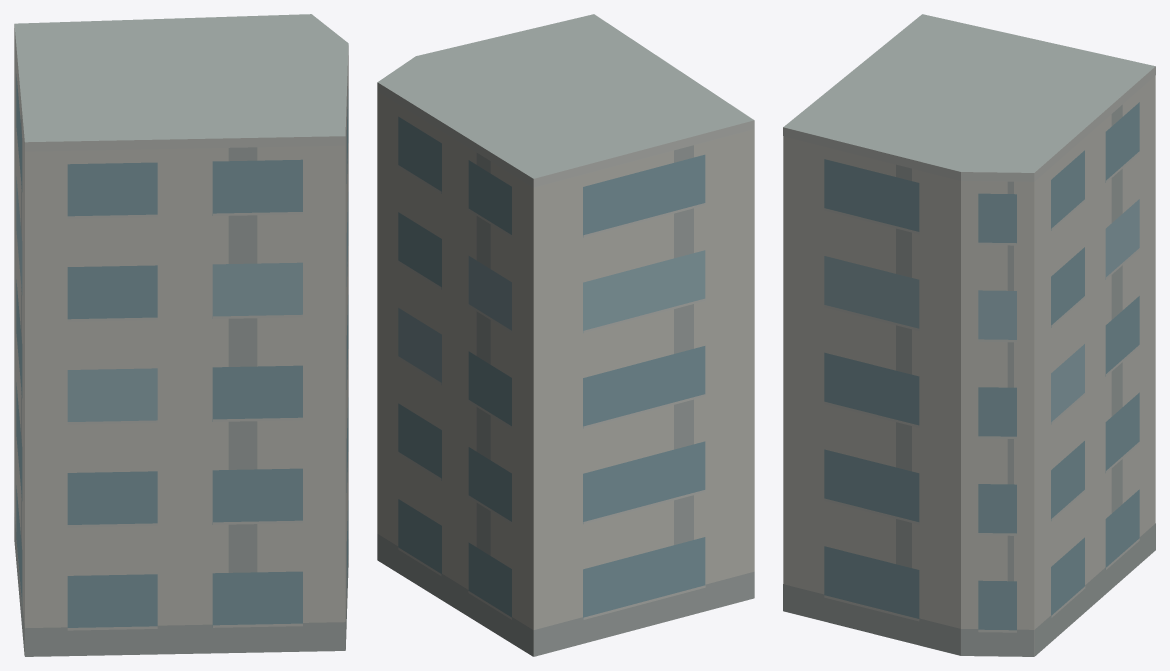
The model's file is survey-upis-32910355.glb.
3 views of the same model, side by side, from view 1: azimuth 30°, elevation 25°; view 2: azimuth 150°, elevation 25°; view 3: azimuth 270°, elevation 25° (orthographic). The views are drawn at different scales.
Visible parts, largest first — view 1: survey-upis-32910355.tmp; view 2: survey-upis-32910355.tmp; view 3: survey-upis-32910355.tmp.
Part boxes in pixels (<box>): survey-upis-32910355.tmp: <box>14,14,348,656</box>; survey-upis-32910355.tmp: <box>377,14,754,656</box>; survey-upis-32910355.tmp: <box>783,14,1155,656</box>.
Bounding box in the file's own units: 9.31 × 13.2 × 9.22.
